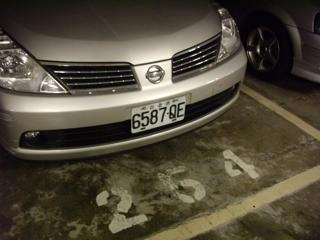plate: (129, 96, 187, 131)
